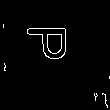P_E: (31, 34, 79, 70)
